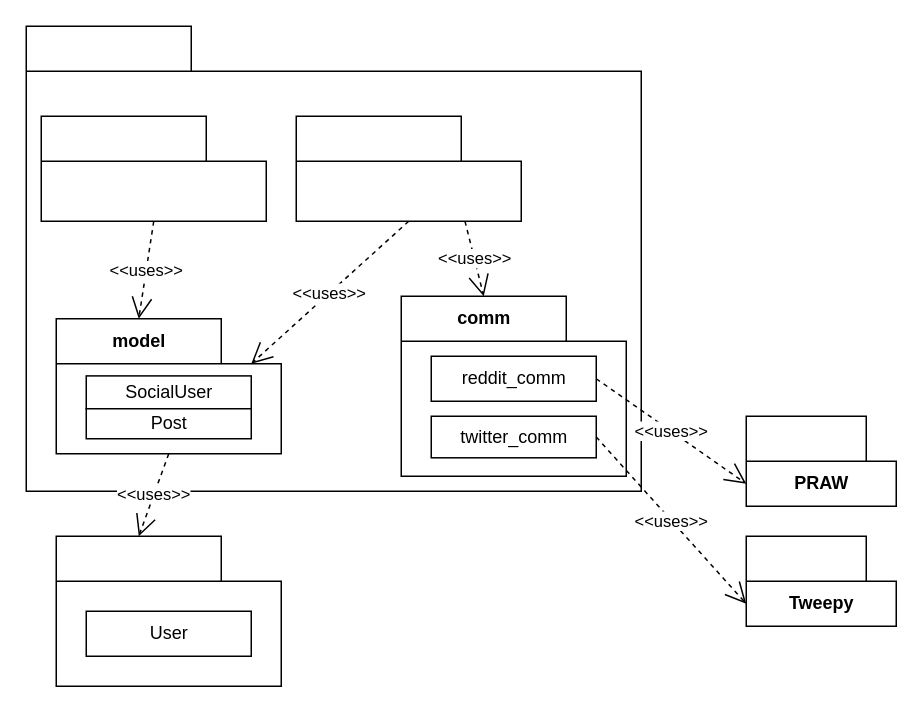
Image size: 923x713. Some labels were removed from this diagram. Each missing label, with the box of its shape:
django.auth.user: (55, 535, 281, 686)
fetch: (295, 115, 521, 221)
socialyze: (25, 25, 641, 491)
visualization: (40, 115, 266, 221)
